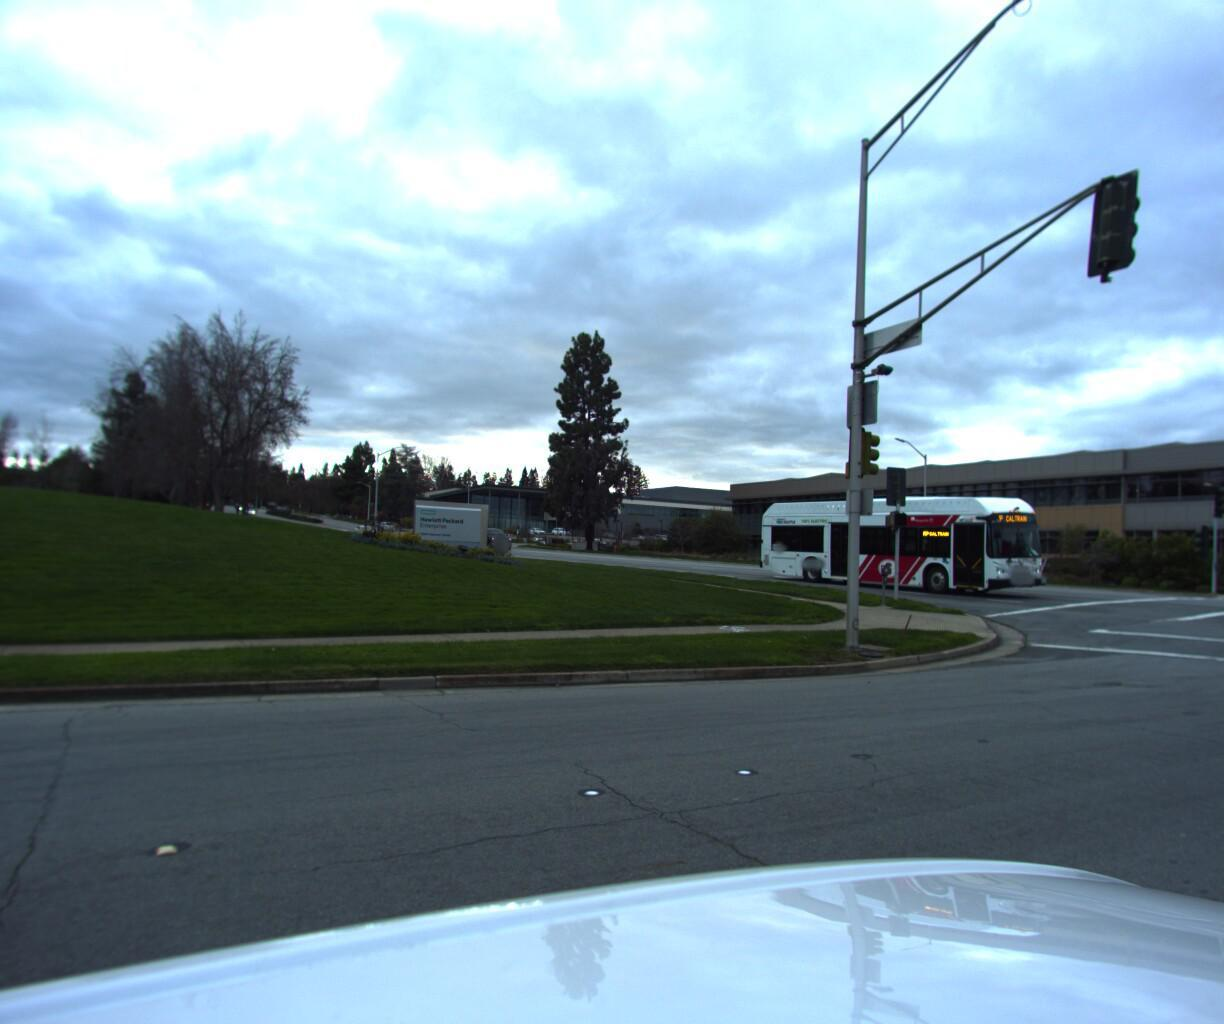bus: (744, 486, 1065, 596)
car: (469, 530, 516, 552)
